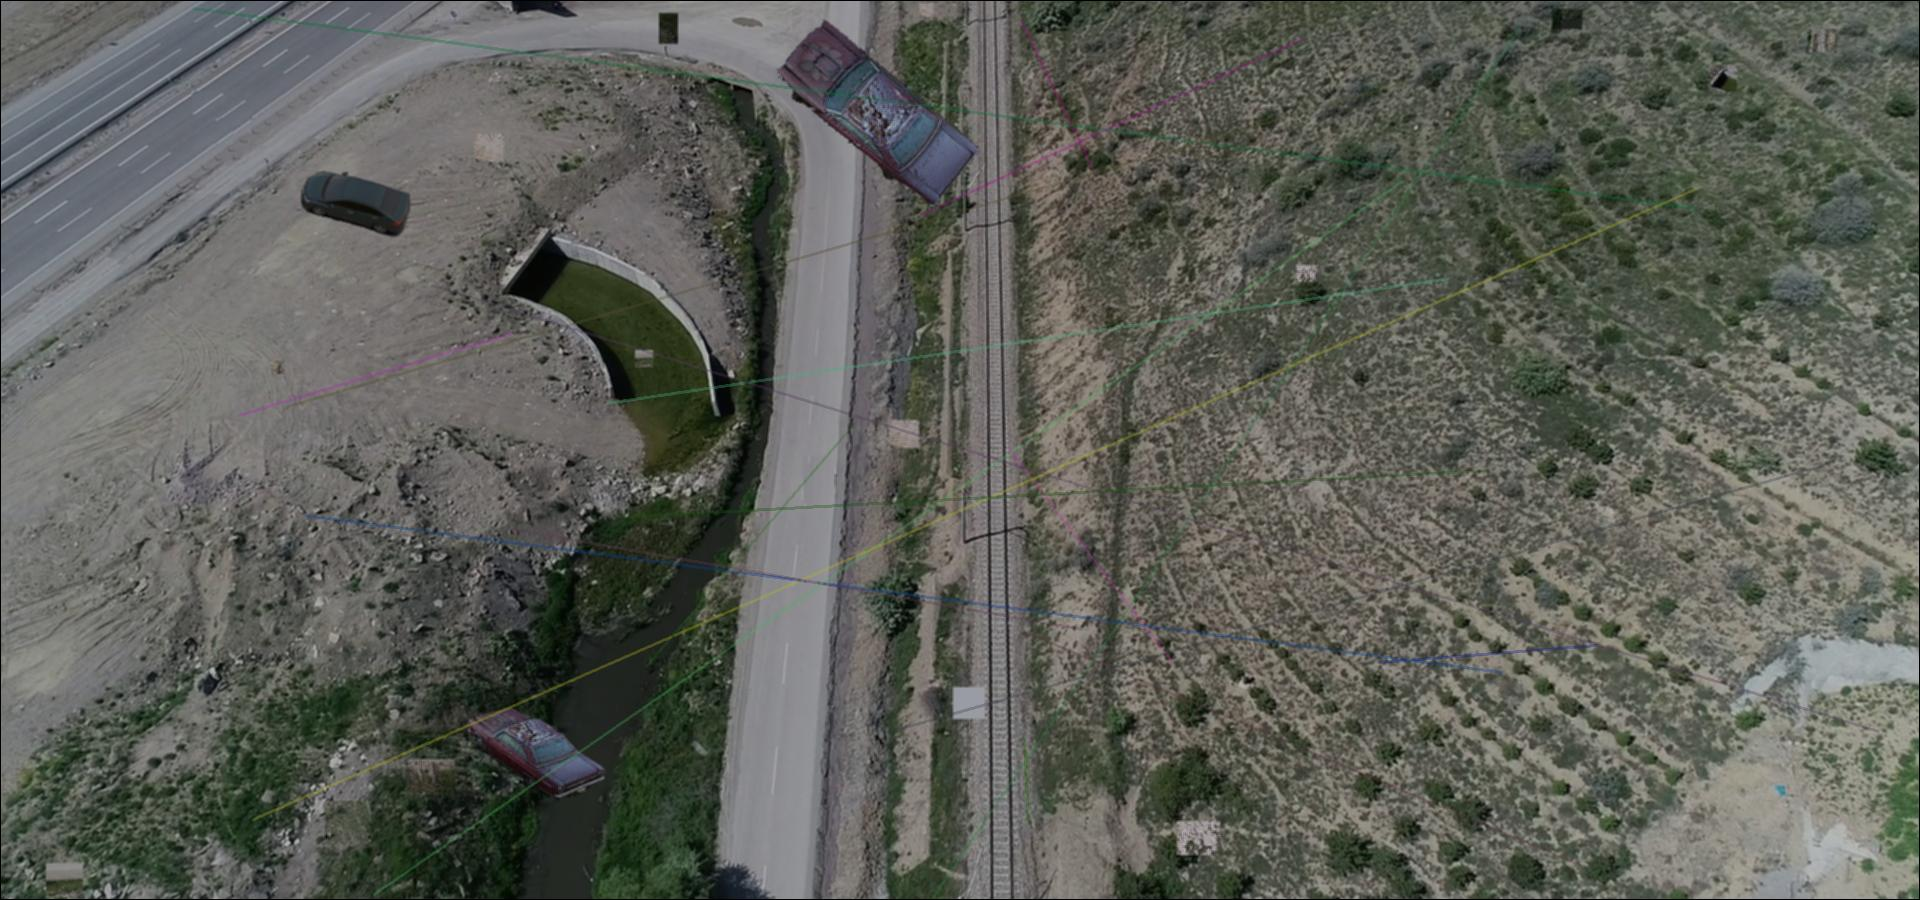arac: (769, 13, 980, 209), (460, 696, 610, 802), (300, 170, 415, 238)
